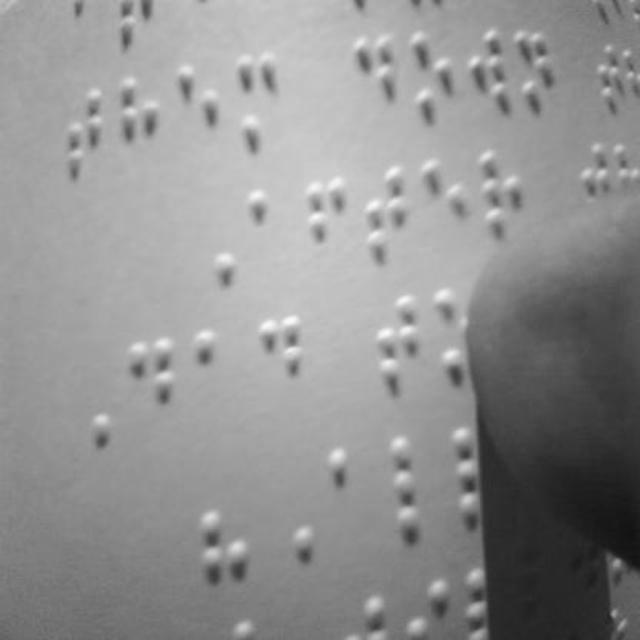braiile: (326, 439, 390, 549), (386, 438, 449, 544), (364, 288, 424, 396), (128, 334, 188, 441), (363, 158, 419, 272), (255, 309, 313, 419), (420, 153, 476, 263), (236, 49, 288, 155), (304, 174, 354, 284), (174, 63, 223, 173), (192, 324, 244, 426), (409, 28, 461, 130), (467, 25, 517, 131), (479, 148, 531, 248), (353, 30, 402, 136), (117, 74, 167, 176), (244, 186, 294, 284), (62, 85, 108, 189), (518, 24, 562, 120)
